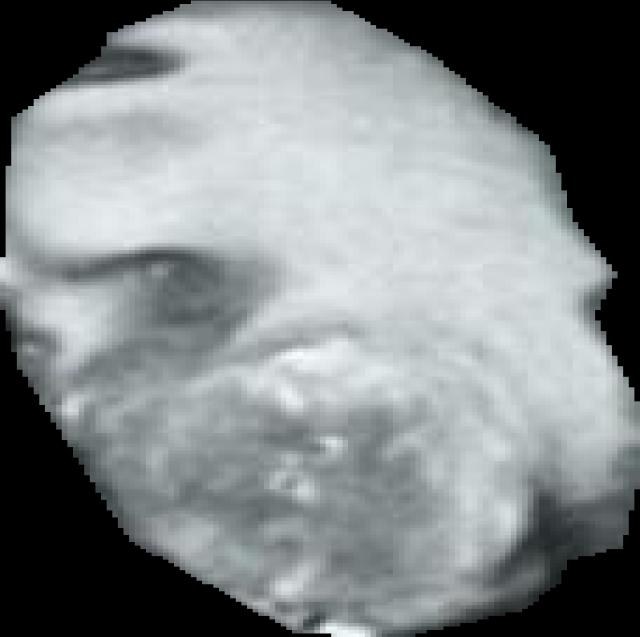tumor_less_chance: (0, 1, 640, 637)
